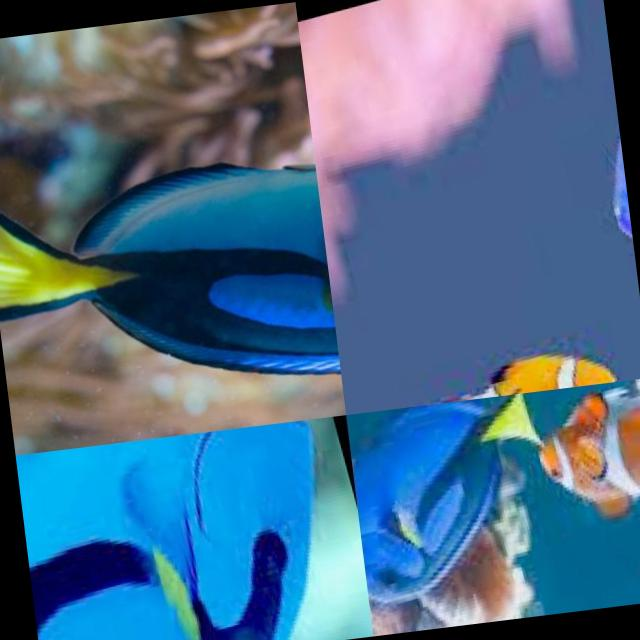BlueTang: (0, 145, 338, 402), (14, 413, 372, 640), (338, 390, 548, 602)
ClownFish: (527, 384, 640, 523), (451, 347, 614, 398)
